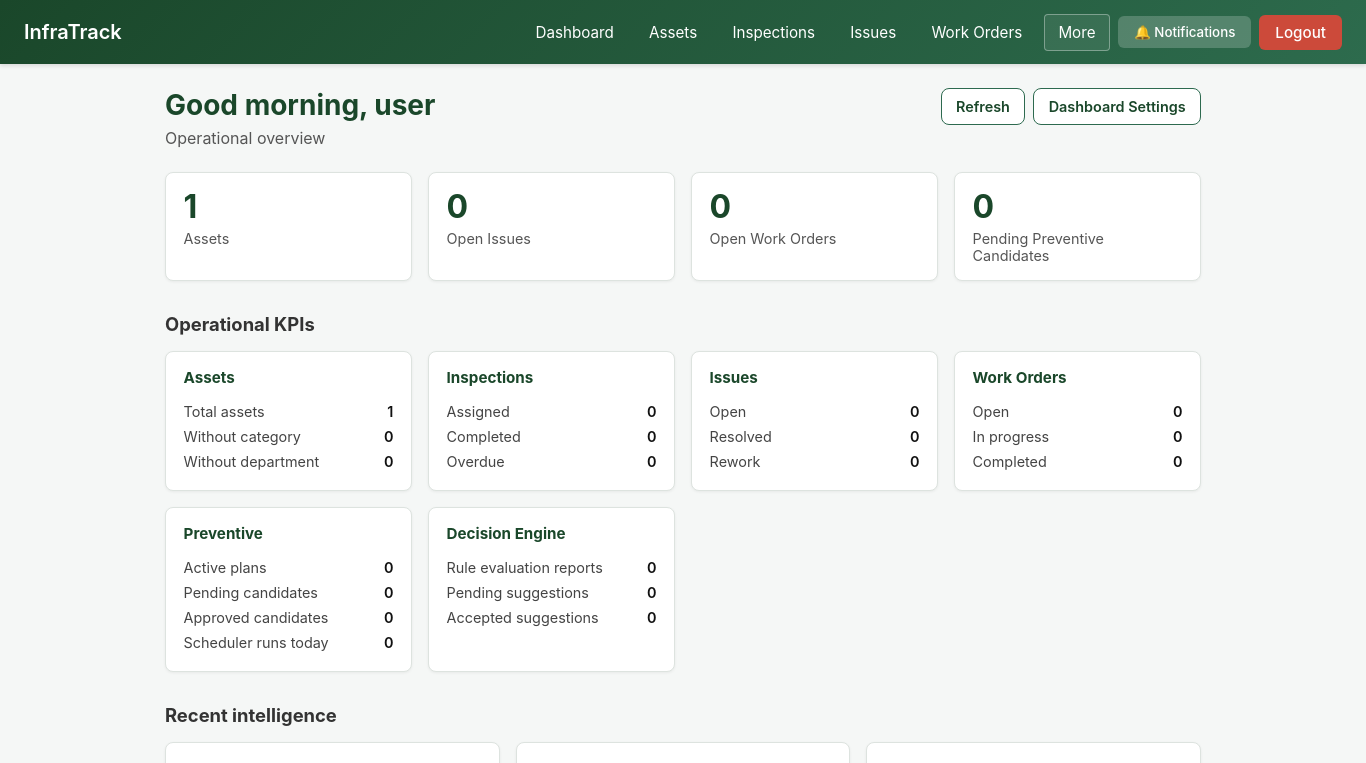
Test case: Dashboard navigation › shows Dashboard link for manager and keeps More menu working
Expected: the button "Dashboard" is shown, 522,15 -> 627,50
Expected: the button "Assets" is shown, 635,15 -> 711,50
Step 1. Click the button with aria-label "More navigation" → {"x": 1077, "y": 32}, box 1044,14 -> 1110,51
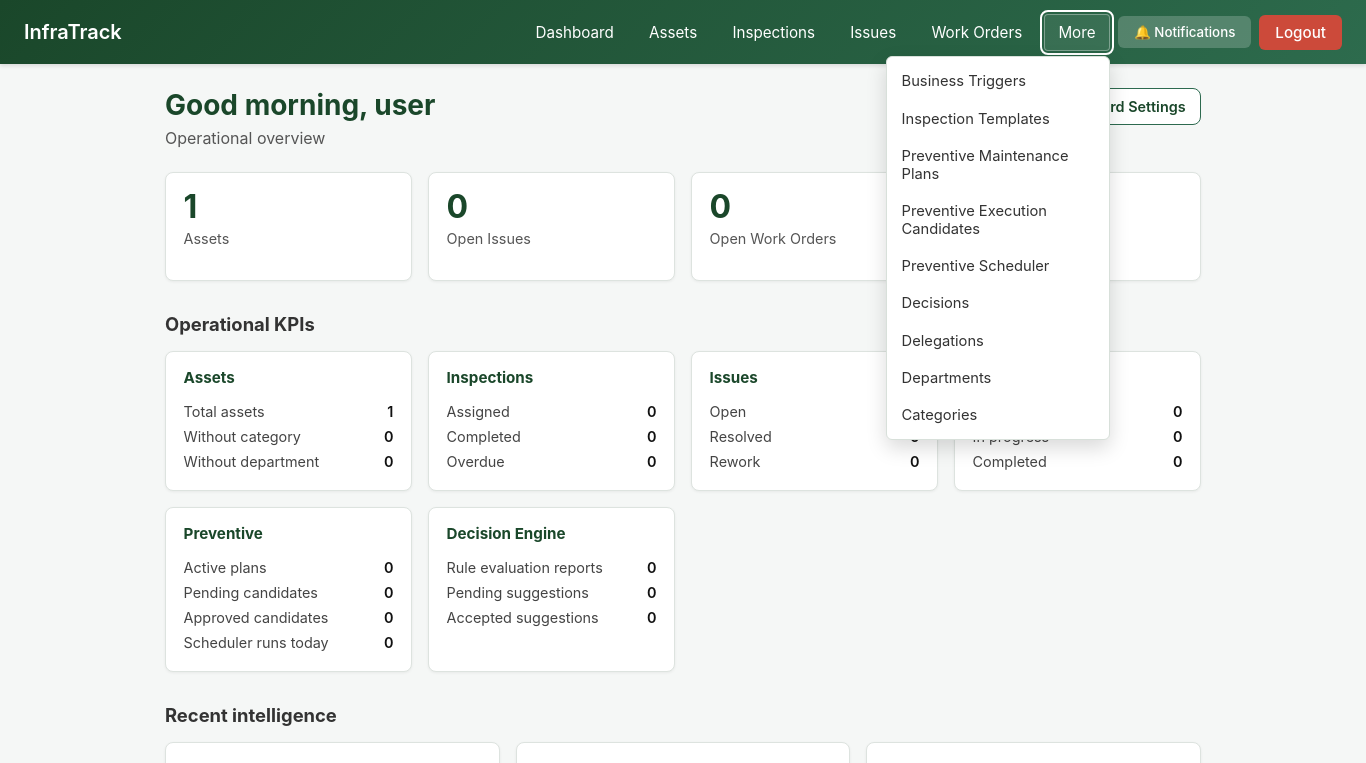
Expected: the menu item "Departments" is shown, 887,359 -> 1109,396
